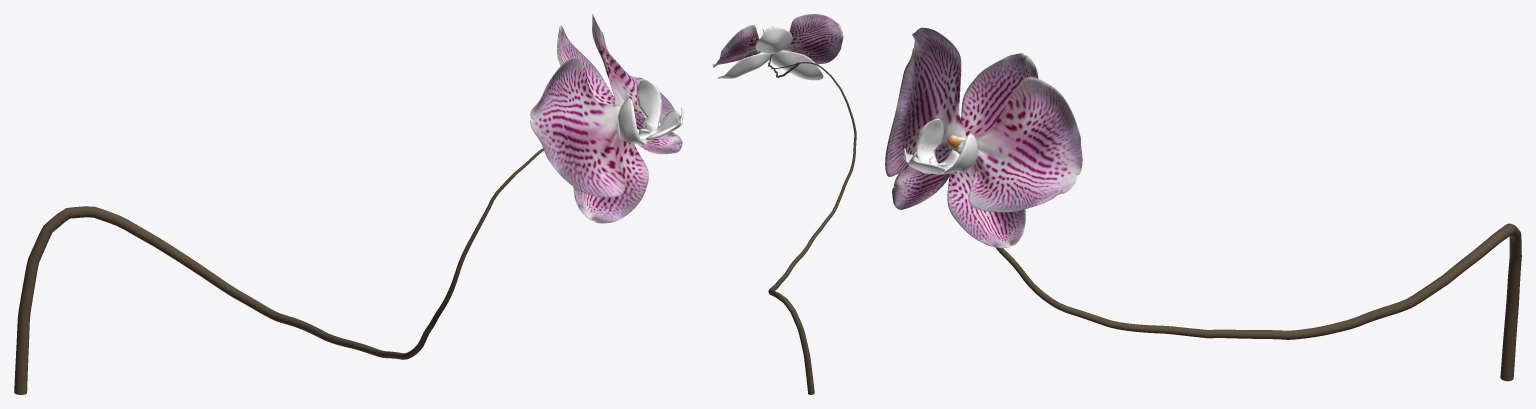
The model's file is kiri-draco.glb.
The picture shows the model from 3 angles, left to right: view 1: azimuth 30°, elevation 25°; view 2: azimuth 150°, elevation 25°; view 3: azimuth 270°, elevation 25°; orthographic projection. The views are drawn at different scales.
Visible parts, largest first — view 1: GN Instance; view 2: GN Instance; view 3: GN Instance.
Boxes of the visible parts, x1,y1,x2,y2 form: GN Instance: [14, 14, 683, 394]; GN Instance: [712, 14, 856, 394]; GN Instance: [885, 27, 1521, 381].
Bounding box in the file's own units: 3.43 × 3.58 × 4.28.
Materials: 10 (6 with a texture image).
